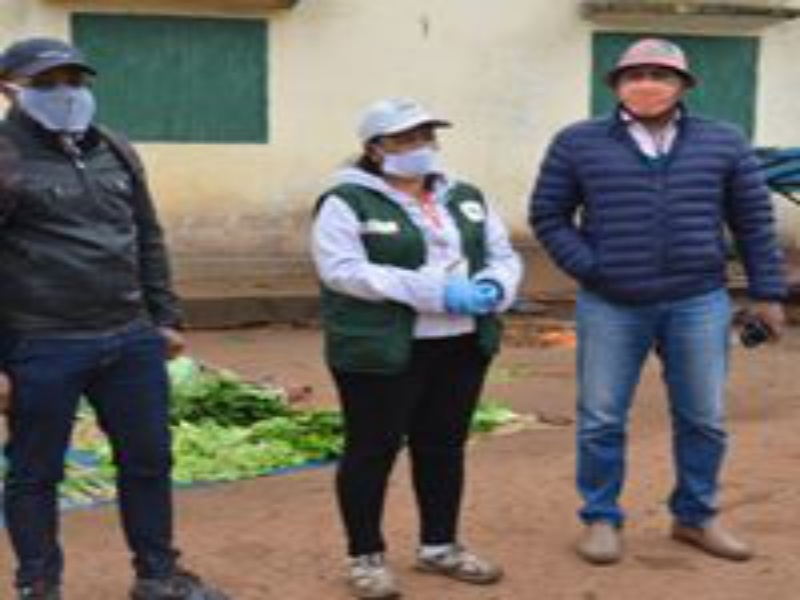TsisyArotava: (5, 24, 110, 153), (351, 87, 449, 192), (602, 31, 697, 139)
